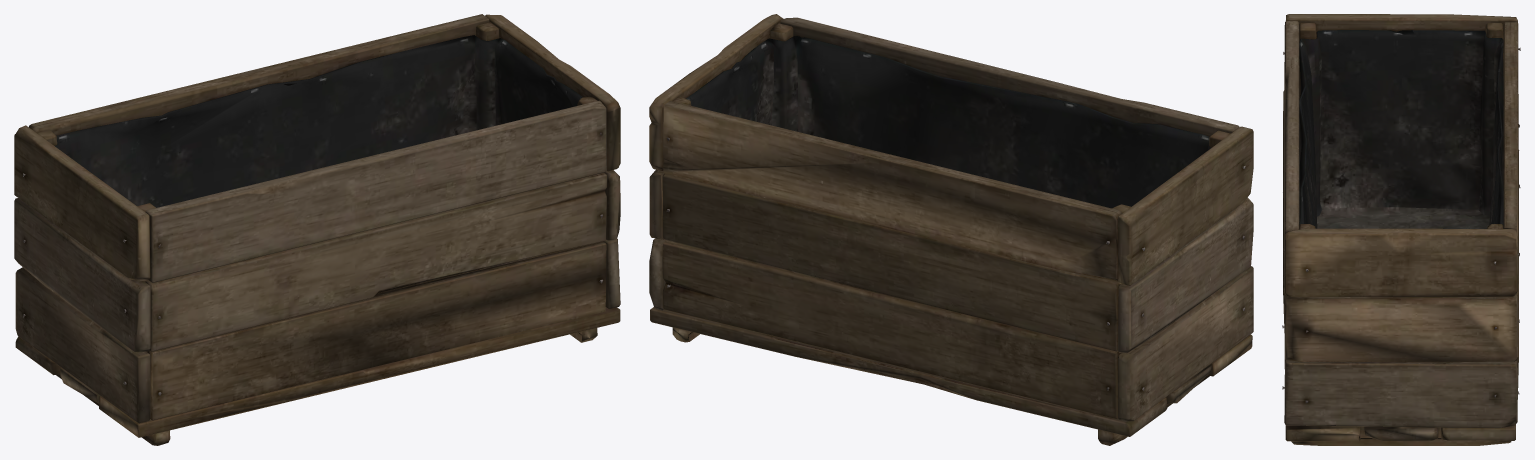
File: ph-planter_box_01.glb
3 views of the same model, side by side, from view 1: azimuth 30°, elevation 25°; view 2: azimuth 150°, elevation 25°; view 3: azimuth 270°, elevation 25° (orthographic). The views are drawn at different scales.
Visible parts, largest first — view 1: planter_box_01; view 2: planter_box_01; view 3: planter_box_01.
Part boxes in pixels (box(x1,y1,x2,y2)): planter_box_01: box(14, 14, 620, 445); planter_box_01: box(649, 14, 1253, 445); planter_box_01: box(1282, 14, 1520, 445).
Size of the model in its own units: 0.9126 by 0.4249 by 0.4135.
1 material, 1 textured.
